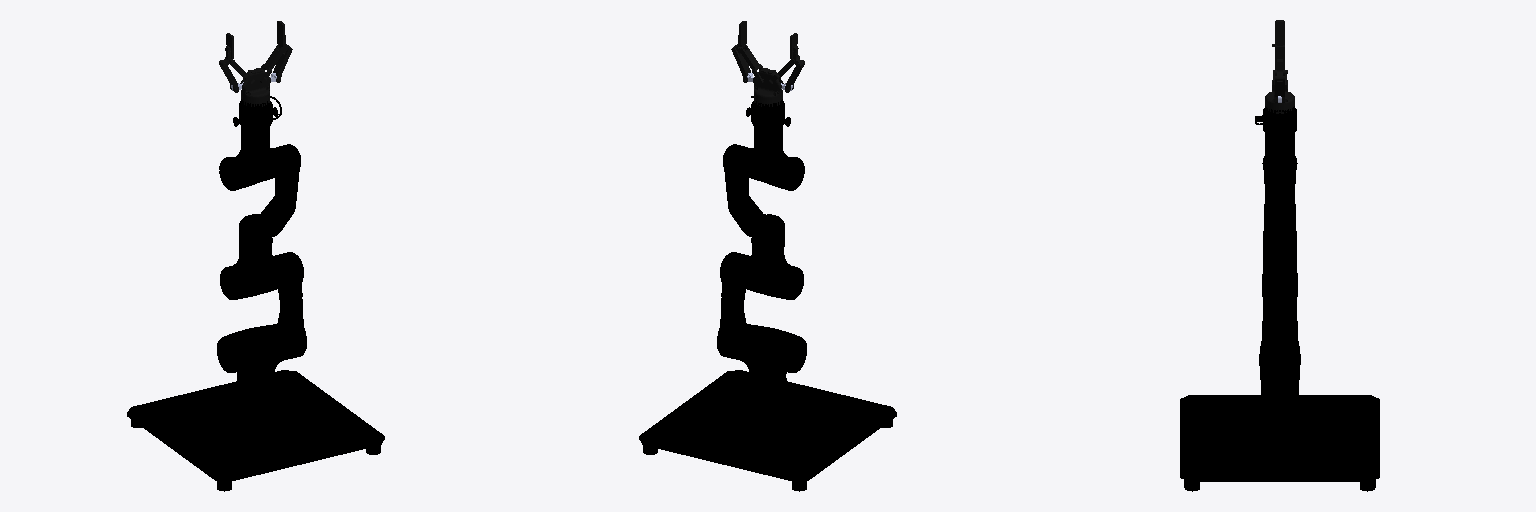
--- Facts derived from the render (not from the file) ---
Views: 3 orthographic renders of the robot side by side, from view 1: azimuth 30°, elevation 25°; view 2: azimuth 150°, elevation 25°; view 3: azimuth 270°, elevation 25°.
Model mara with 25 links and 24 joints (12 revolute, 12 fixed), rooted at world, posed all joints at 0.
Links seen in each view (by area): view 1: base_link, base_robot, motor1_link, motor4_link, motor3_link, motor2_link, motor1_cover, motor5_link, motor5_cover, motor3_cover, robotiq_arg2f_base_link, robotiq_adapter_link; view 2: base_link, base_robot, motor1_link, motor4_link, motor3_link, motor2_link, motor1_cover, motor5_link, motor5_cover, motor3_cover, robotiq_arg2f_base_link, robotiq_adapter_link; view 3: base_link, motor2_link, base_robot, motor4_link, motor3_link, motor5_link, motor1_link.
Boxes of the visible links, <box> form: base_link: <box>127,370,384,491</box>; base_robot: <box>209,390,302,443</box>; motor1_link: <box>237,323,291,399</box>; motor4_link: <box>239,144,300,240</box>; motor3_link: <box>233,237,287,294</box>; motor2_link: <box>277,252,306,358</box>; motor1_cover: <box>217,322,295,403</box>; motor5_link: <box>235,130,284,182</box>; motor5_cover: <box>219,127,288,190</box>; motor3_cover: <box>220,235,291,299</box>; robotiq_arg2f_base_link: <box>240,68,270,106</box>; robotiq_adapter_link: <box>233,101,278,130</box>; base_link: <box>639,370,896,491</box>; base_robot: <box>721,392,814,443</box>; motor1_link: <box>732,323,786,399</box>; motor4_link: <box>723,144,784,240</box>; motor3_link: <box>736,237,790,294</box>; motor2_link: <box>717,252,746,358</box>; motor1_cover: <box>728,322,806,403</box>; motor5_link: <box>739,130,788,182</box>; motor5_cover: <box>735,127,804,190</box>; motor3_cover: <box>732,235,803,299</box>; robotiq_arg2f_base_link: <box>753,68,783,106</box>; robotiq_adapter_link: <box>746,101,790,130</box>; base_link: <box>1180,395,1379,491</box>; motor2_link: <box>1261,285,1298,396</box>; base_robot: <box>1238,402,1327,456</box>; motor4_link: <box>1263,175,1296,248</box>; motor3_link: <box>1262,247,1297,296</box>; motor5_link: <box>1264,137,1295,184</box>; motor1_link: <box>1259,347,1300,411</box>.
Size in the robot's own frame: 0.5 by 0.5 by 1.16 metres.
21 mesh visuals loaded from 22 distinct referenced files (21 Collada DAE); not drawn: 5 (reference not matched to a file when rendering).

The robot description file, URDF, robot "mara":
<?xml version="1.0" ?>
<!-- =================================================================================== -->
<!-- |    This document was autogenerated by xacro from [local-path]/ros2_mara_ws/src/mara/mara_description/urdf/mara_robot_gripper_140.urdf.xacro | -->
<!-- |    EDITING THIS FILE BY HAND IS NOT RECOMMENDED                                 | -->
<!-- =================================================================================== -->
<robot name="mara" xmlns:xacro="http://ros.org/wiki/xacro">
  <!--
  Author: Alejandro  Hernandez
-->
  <!-- <xacro:include filename="$(find mara_description)/urdf/camera_top.urdf.xacro" /> -->
  <link name="base_link">
    <inertial>
      <origin rpy="0 0 0" xyz="8.625E-08 -4.6583E-06 0.03145"/>
      <mass value="7.033"/>
      <inertia ixx="0.1478344" ixy="-0.00001" ixz="0.0" iyy="0.14782335" iyz="0.0" izz="0.29471799"/>
    </inertial>
    <visual>
      <origin rpy="0 0 0" xyz="0 0 0"/>
      <geometry>
        <mesh filename="package://mara_description/meshes/Base_plancha.dae" scale="0.001 0.001 0.001"/>
      </geometry>
      <material name="Gazebo/Grey">
        <color rgba="0. 0. 0. 1"/>
      </material>
    </visual>
    <collision>
      <origin rpy="0 0 0" xyz="0 0 0"/>
      <geometry>
        <mesh filename="package://mara_description/meshes/Base_plancha.dae" scale="0.001 0.001 0.001"/>
      </geometry>
    </collision>
  </link>
  <gazebo reference="base_link">
    <material>Gazebo/Grey</material>
    <selfCollide>True</selfCollide>
  </gazebo>
  <link name="base_robot">
    <inertial>
      <origin rpy="0 0 0" xyz="8.625E-08 -4.6583E-06 0.03145"/>
      <mass value="7.033"/>
      <inertia ixx="0.1478344" ixy="-0.00001" ixz="0.0" iyy="0.14782335" iyz="0.0" izz="0.29471799"/>
    </inertial>
    <visual>
      <origin rpy="0 0 0" xyz="0 0 0"/>
      <geometry>
        <mesh filename="package://mara_description/meshes/Base.dae" scale="0.001 0.001 0.001"/>
      </geometry>
      <material name="Gazebo/Black">
        <color rgba="0. 0. 0. 1"/>
      </material>
    </visual>
    <collision>
      <origin rpy="0 0 0" xyz="0 0 0"/>
      <geometry>
        <mesh filename="package://mara_description/meshes/Base.dae" scale="0.001 0.001 0.001"/>
      </geometry>
    </collision>
  </link>
  <gazebo reference="base_robot">
    <material>Gazebo/Black</material>
    <selfCollide>True</selfCollide>
  </gazebo>
  <link name="motor1_link">
    <inertial>
      <origin rpy="0 0 0" xyz="8.625E-08 -4.6583E-06 0.03145"/>
      <mass value="5.8"/>
      <inertia ixx="0.10105893" ixy="0.000211" ixz="-0.004" iyy="0.09386624" iyz="-0.01698537" izz="0.01449937"/>
    </inertial>
    <visual>
      <origin rpy="0 0 0" xyz="0 0 0"/>
      <geometry>
        <mesh filename="package://mara_description/meshes/MARA_T49.dae" scale="0.001 0.001 0.001"/>
      </geometry>
      <material name="Gazebo/White">
        <color rgba="0. 0. 0. 1"/>
      </material>
    </visual>
    <collision>
      <origin rpy="0 0 0" xyz="0 0 0"/>
      <geometry>
        <mesh filename="package://mara_description/meshes/MARA_T49.dae" scale="0.001 0.001 0.001"/>
      </geometry>
    </collision>
  </link>
  <gazebo reference="motor1_link">
    <material>Gazebo/White</material>
    <selfCollide>True</selfCollide>
  </gazebo>
  <link name="motor1_cover">
    <inertial>
      <origin rpy="0 0 0" xyz="8.625E-08 -4.6583E-06 0.03145"/>
      <mass value="5.8"/>
      <inertia ixx="0.10105893" ixy="0.000211" ixz="-0.004" iyy="0.09386624" iyz="-0.01698537" izz="0.01449937"/>
    </inertial>
    <visual>
      <origin rpy="0 0 0" xyz="0 0 0"/>
      <geometry>
        <mesh filename="package://mara_description/meshes/MARA_T49_Black.dae" scale="0.001 0.001 0.001"/>
      </geometry>
      <material name="Gazebo/Black">
        <color rgba="0. 0. 0. 1"/>
      </material>
    </visual>
    <collision>
      <origin rpy="0 0 0" xyz="0 0 0"/>
      <geometry>
        <mesh filename="package://mara_description/meshes/MARA_T49_Black.dae" scale="0.001 0.001 0.001"/>
      </geometry>
    </collision>
  </link>
  <gazebo reference="motor1_cover">
    <material>Gazebo/Black</material>
    <selfCollide>True</selfCollide>
  </gazebo>
  <link name="motor2_link">
    <inertial>
      <origin rpy="0 0 0" xyz="8.625E-08 -4.6583E-06 0.03145"/>
      <mass value="1.03237"/>
      <inertia ixx="0.014865226" ixy="0.0" ixz="0.0" iyy="0.01557" iyz="0.00071" izz="0.00092"/>
    </inertial>
    <visual>
      <origin rpy="0 0 0" xyz="0 0 0"/>
      <geometry>
        <mesh filename="package://mara_description/meshes/MARA_Link1.dae" scale="0.001 0.001 0.001"/>
      </geometry>
      <material name="Gazebo/Black">
        <color rgba="0. 0. 0. 1"/>
      </material>
    </visual>
    <collision>
      <origin rpy="0 0 0" xyz="0 0 0"/>
      <geometry>
        <mesh filename="package://mara_description/meshes/MARA_Link1.dae" scale="0.001 0.001 0.001"/>
      </geometry>
    </collision>
  </link>
  <gazebo reference="motor2_link">
    <material>Gazebo/Black</material>
    <selfCollide>True</selfCollide>
  </gazebo>
  <link name="motor3_link">
    <inertial>
      <origin rpy="0 0 0" xyz="8.625E-08 -4.6583E-06 0.03145"/>
      <mass value="3.8"/>
      <inertia ixx="0.04517" ixy="0.00002" ixz="0.0" iyy="0.01587" iyz="0.01444" izz="0.03303"/>
    </inertial>
    <visual>
      <origin rpy="0 0 0" xyz="0 0 0"/>
      <geometry>
        <mesh filename="package://mara_description/meshes/MARA_T30.dae" scale="0.001 0.001 0.001"/>
      </geometry>
      <material name="Gazebo/White">
        <color rgba="0. 0. 0. 1"/>
      </material>
    </visual>
    <collision>
      <origin rpy="0 0 0" xyz="0 0 0"/>
      <geometry>
        <mesh filename="package://mara_description/meshes/MARA_T30.dae" scale="0.001 0.001 0.001"/>
      </geometry>
    </collision>
  </link>
  <gazebo reference="motor3_link">
    <material>Gazebo/White</material>
    <selfCollide>True</selfCollide>
  </gazebo>
  <link name="motor3_cover">
    <inertial>
      <origin rpy="0 0 0" xyz="8.625E-08 -4.6583E-06 0.03145"/>
      <mass value="3.8"/>
      <inertia ixx="0.04517" ixy="0.00002" ixz="0.0" iyy="0.01587" iyz="0.01444" izz="0.03303"/>
    </inertial>
    <visual>
      <origin rpy="0 0 0" xyz="0 0 0"/>
      <geometry>
        <mesh filename="package://mara_description/meshes/MARA_T30_Black.dae" scale="0.001 0.001 0.001"/>
      </geometry>
      <material name="Gazebo/Black">
        <color rgba="0. 0. 0. 1"/>
      </material>
    </visual>
    <collision>
      <origin rpy="0 0 0" xyz="0 0 0"/>
      <geometry>
        <mesh filename="package://mara_description/meshes/MARA_T30_Black.dae" scale="0.001 0.001 0.001"/>
      </geometry>
    </collision>
  </link>
  <gazebo reference="motor3_cover">
    <material>Gazebo/Black</material>
    <selfCollide>True</selfCollide>
  </gazebo>
  <link name="motor4_link">
    <inertial>
      <origin rpy="0 0 0" xyz="8.625E-08 -4.6583E-06 0.03145"/>
      <mass value="1.1"/>
      <inertia ixx="0.01464" ixy="0.0" ixz="0.0" iyy="0.00895" iyz="-0.00631" izz="0.00725"/>
    </inertial>
    <visual>
      <origin rpy="0 0 0" xyz="0 0 0"/>
      <geometry>
        <mesh filename="package://mara_description/meshes/MARA_Link2.dae" scale="0.001 0.001 0.001"/>
      </geometry>
      <material name="Gazebo/Black">
        <color rgba="0. 0. 0. 1"/>
      </material>
    </visual>
    <collision>
      <origin rpy="0 0 0" xyz="0 0 0"/>
      <geometry>
        <mesh filename="package://mara_description/meshes/MARA_Link2.dae" scale="0.001 0.001 0.001"/>
      </geometry>
    </collision>
  </link>
  <gazebo reference="motor4_link">
    <material>Gazebo/Black</material>
    <selfCollide>True</selfCollide>
  </gazebo>
  <link name="motor5_link">
    <inertial>
      <origin rpy="0 0 0" xyz="8.625E-08 -4.6583E-06 0.03145"/>
      <mass value="2.9"/>
      <inertia ixx="0.03406" ixy="0.0" ixz="0.0" iyy="0.01066" iyz="0.00989" izz="0.02563"/>
    </inertial>
    <visual>
      <origin rpy="0 0 0" xyz="0 0 0"/>
      <geometry>
        <mesh filename="package://mara_description/meshes/MARA_T5.4.dae" scale="0.001 0.001 0.001"/>
      </geometry>
      <material name="Gazebo/White">
        <color rgba="0. 0. 0. 1"/>
      </material>
    </visual>
    <collision>
      <origin rpy="0 0 0" xyz="0 0 0"/>
      <geometry>
        <mesh filename="package://mara_description/meshes/MARA_T5.4.dae" scale="0.001 0.001 0.001"/>
      </geometry>
    </collision>
  </link>
  <gazebo reference="motor5_link">
    <material>Gazebo/White</material>
    <selfCollide>True</selfCollide>
  </gazebo>
  <link name="motor5_cover">
    <inertial>
      <origin rpy="0 0 0" xyz="8.625E-08 -4.6583E-06 0.03145"/>
      <mass value="2.9"/>
      <inertia ixx="0.03406" ixy="0.0" ixz="0.0" iyy="0.01066" iyz="0.00989" izz="0.02563"/>
    </inertial>
    <visual>
      <origin rpy="0 0 0" xyz="0 0 0"/>
      <geometry>
        <mesh filename="package://mara_description/meshes/MARA_T5.4_black.dae" scale="0.001 0.001 0.001"/>
      </geometry>
      <material name="Gazebo/Black">
        <color rgba="0. 0. 0. 1"/>
      </material>
    </visual>
    <collision>
      <origin rpy="0 0 0" xyz="0 0 0"/>
      <geometry>
        <mesh filename="package://mara_description/meshes/MARA_T5.4_black.dae" scale="0.001 0.001 0.001"/>
      </geometry>
    </collision>
  </link>
  <gazebo reference="motor5_cover">
    <material>Gazebo/Black</material>
    <selfCollide>True</selfCollide>
  </gazebo>
  <link name="motor6_link">
    <inertial>
      <origin rpy="0 0 0" xyz="8.625E-08 -4.6583E-06 0.03145"/>
      <mass value="2.9"/>
      <inertia ixx="0.0005" ixy="0.0" ixz="0.0" iyy="0.0005" iyz="0.0000" izz="0.0003"/>
    </inertial>
    <visual>
      <origin rpy="0 0 0" xyz="0 0 0"/>
      <geometry>
        <mesh filename="package://mara_description/meshes/MARA_GripperAdapter.dae" scale="0.001 0.001 0.001"/>
      </geometry>
      <material name="Gazebo/Black">
        <color rgba="0. 0. 0. 1"/>
      </material>
    </visual>
    <collision>
      <origin rpy="0 0 0" xyz="0 0 0"/>
      <geometry>
        <mesh filename="package://mara_description/meshes/MARA_GripperAdapter.dae" scale="0.001 0.001 0.001"/>
      </geometry>
    </collision>
  </link>
  <gazebo reference="motor6_link">
    <material>Gazebo/Black</material>
    <selfCollide>True</selfCollide>
  </gazebo>
  <link name="ee_link">
    </link>
  <gazebo reference="ee_link">
    <material>Gazebo/Blue</material>
    <selfCollide>False</selfCollide>
  </gazebo>
  <joint name="joint_bases" type="fixed">
    <origin rpy="0 0 0" xyz="0 0 0.04"/>
    <parent link="base_link"/>
    <child link="base_robot"/>
  </joint>
  <joint name="motor1" type="revolute">
    <origin rpy="0 0 0" xyz="0 0 0.05122"/>
    <parent link="base_robot"/>
    <child link="motor1_link"/>
    <axis xyz="0 0 -1"/>
    <limit effort="330.0" lower="-3.1416" upper="3.1416" velocity="3.1416"/>
    <dynamics damping="0" friction="0"/>
  </joint>
  <joint name="motor1_cover_joint" type="fixed">
    <origin rpy="0 0 0" xyz="0 0 0.0"/>
    <parent link="motor1_link"/>
    <child link="motor1_cover"/>
  </joint>
  <joint name="motor2" type="revolute">
    <origin rpy="0 0 0" xyz="0.118 0 0.1637"/>
    <parent link="motor1_link"/>
    <child link="motor2_link"/>
    <axis xyz="-1 0 0"/>
    <limit effort="330.0" lower="-3.1416" upper="3.1416" velocity="3.1416"/>
    <dynamics damping="0" friction="0"/>
  </joint>
  <joint name="motor3" type="revolute">
    <origin rpy="0 0 0" xyz="-0.009 0 0.2"/>
    <parent link="motor2_link"/>
    <child link="motor3_link"/>
    <axis xyz="1 0 0"/>
    <limit effort="330.0" lower="-3.1416" upper="3.1416" velocity="3.1416"/>
    <dynamics damping="0" friction="0"/>
  </joint>
  <joint name="motor3_cover_joint" type="fixed">
    <origin rpy="0 0 0" xyz="0 0 0.0"/>
    <parent link="motor3_link"/>
    <child link="motor3_cover"/>
  </joint>
  <joint name="motor4" type="revolute">
    <origin rpy="0 0 0" xyz="-0.109255 0 0.149255"/>
    <parent link="motor3_link"/>
    <child link="motor4_link"/>
    <axis xyz="0 0 -1"/>
    <limit effort="330.0" lower="-3.1416" upper="3.1416" velocity="3.1416"/>
    <dynamics damping="0" friction="0"/>
  </joint>
  <joint name="motor5" type="revolute">
    <origin rpy="0 0 0" xyz="0.1054570 0 0.16074"/>
    <parent link="motor4_link"/>
    <child link="motor5_link"/>
    <axis xyz="1 0 0"/>
    <limit effort="330.0" lower="-3.1416" upper="3.1416" velocity="3.1416"/>
    <dynamics damping="0" friction="0"/>
  </joint>
  <joint name="motor5_cover_joint" type="fixed">
    <origin rpy="0 0 0" xyz="0 0 0.0"/>
    <parent link="motor5_link"/>
    <child link="motor5_cover"/>
  </joint>
  <joint name="motor6" type="revolute">
    <origin rpy="0 0 0" xyz="-0.10625569 0 0.14675569"/>
    <parent link="motor5_link"/>
    <child link="motor6_link"/>
    <axis xyz="0 0 -1"/>
    <limit effort="330.0" lower="-3.1416" upper="3.1416" velocity="3.1416"/>
    <dynamics damping="0" friction="0"/>
  </joint>
  <joint name="ee_link" type="fixed">
    <origin rpy="0 -1.57 0" xyz="0 0.0 0.24"/>
    <!-- 0.24 -->
    <parent link="motor6_link"/>
    <child link="ee_link"/>
  </joint>
  <link name="tool0"/>
  <joint name="motor6_link-tool0_fixed_joint" type="fixed">
    <origin rpy="0 -1.57 0" xyz="0 0.0 0.24"/>
    <parent link="motor6_link"/>
    <child link="tool0"/>
  </joint>
  <transmission name="shoulder_pan_trans">
    <type>transmission_interface/SimpleTransmission</type>
    <joint name="motor1">
      <hardwareInterface>hardware_interface/PositionJointInterface</hardwareInterface>
    </joint>
    <actuator name="shoulder_pan_motor">
      <mechanicalReduction>1</mechanicalReduction>
    </actuator>
  </transmission>
  <transmission name="shoulder_lift_trans">
    <type>transmission_interface/SimpleTransmission</type>
    <joint name="motor2">
      <hardwareInterface>hardware_interface/PositionJointInterface</hardwareInterface>
    </joint>
    <actuator name="shoulder_lift_motor">
      <mechanicalReduction>1</mechanicalReduction>
    </actuator>
  </transmission>
  <transmission name="elbow_trans">
    <type>transmission_interface/SimpleTransmission</type>
    <joint name="motor3">
      <hardwareInterface>hardware_interface/PositionJointInterface</hardwareInterface>
    </joint>
    <actuator name="elbow_motor">
      <mechanicalReduction>1</mechanicalReduction>
    </actuator>
  </transmission>
  <transmission name="wrist_1_trans">
    <type>transmission_interface/SimpleTransmission</type>
    <joint name="motor4">
      <hardwareInterface>hardware_interface/PositionJointInterface</hardwareInterface>
    </joint>
    <actuator name="wrist_1_motor">
      <mechanicalReduction>1</mechanicalReduction>
    </actuator>
  </transmission>
  <transmission name="wrist_2_trans">
    <type>transmission_interface/SimpleTransmission</type>
    <joint name="motor5">
      <hardwareInterface>hardware_interface/PositionJointInterface</hardwareInterface>
    </joint>
    <actuator name="wrist_2_motor">
      <mechanicalReduction>1</mechanicalReduction>
    </actuator>
  </transmission>
  <transmission name="wrist_3_trans">
    <type>transmission_interface/SimpleTransmission</type>
    <joint name="motor6">
      <hardwareInterface>hardware_interface/PositionJointInterface</hardwareInterface>
    </joint>
    <actuator name="wrist_3_motor">
      <mechanicalReduction>1</mechanicalReduction>
    </actuator>
  </transmission>
  <gazebo>
    <plugin filename="libgazebo_ros_joint_state_publisher.so" name="mara_joint_state">
      <ros>
        <argument>~/out:=joint_states</argument>
      </ros>
      <update_rate>25</update_rate>
      <joint_name>motor1</joint_name>
      <joint_name>motor2</joint_name>
      <joint_name>motor3</joint_name>
      <joint_name>motor4</joint_name>
      <joint_name>motor5</joint_name>
      <joint_name>motor6</joint_name>
      <joint_name>joint_finger</joint_name>
    </plugin>
    <plugin filename="libmara_gazebo_joint_plugin.so" name="hrim_actuation_servomotor_000000000001">
      <ros/>
      <axis1>motor2</axis1>
      <axis2>motor1</axis2>
      <type>series14</type>
    </plugin>
    <plugin filename="libmara_gazebo_joint_plugin.so" name="hrim_actuation_servomotor_000000000002">
      <ros/>
      <axis1>motor3</axis1>
      <axis2>motor4</axis2>
      <type>series17</type>
    </plugin>
    <plugin filename="libmara_gazebo_joint_plugin.so" name="hrim_actuation_servomotor_000000000003">
      <ros/>
      <axis1>motor5</axis1>
      <axis2>motor6</axis2>
      <type>series20</type>
    </plugin>
  </gazebo>
  <link name="robotiq_adapter_link">
    <inertial>
      <origin rpy="0 0 0" xyz="8.625E-08 -4.6583E-06 0.03145"/>
      <mass value="0.22652"/>
      <inertia ixx="0.00020005" ixy="0" ixz="0" iyy="0.00017832" iyz="0" izz="0.00013478"/>
    </inertial>
    <visual>
      <origin rpy="0 0 1.57" xyz="0 0 0"/>
      <geometry>
        <mesh filename="package://robotiq_140_gripper_description/meshes/hros_robotiq_adapter.dae" scale="0.001 0.001 0.001"/>
      </geometry>
      <material name="Gazebo/Black">
        <color rgba="0.0 0.0 0.0 1"/>
      </material>
    </visual>
    <collision>
      <origin rpy="0 0 1.57" xyz="0 0 0"/>
      <geometry>
        <mesh filename="package://robotiq_140_gripper_description/meshes/hros_robotiq_adapter.dae" scale="0.001 0.001 0.001"/>
      </geometry>
    </collision>
  </link>
  <gazebo reference="robotiq_adapter_link">
    <material>Gazebo/Black</material>
    <selfCollide>False</selfCollide>
  </gazebo>
  <joint name="base_adapter_to_base_robotiq_joint" type="fixed">
    <origin rpy="0 0 0" xyz=" 0 0 0.03653"/>
    <parent link="robotiq_adapter_link"/>
    <child link="robotiq_arg2f_base_link"/>
  </joint>
  <link name="robotiq_arg2f_base_link">
    <inertial>
      <origin rpy="0 0 0" xyz="8.625E-08 -4.6583E-06 0.03145"/>
      <mass value="0.22652"/>
      <inertia ixx="0.00020005" ixy="0" ixz="0" iyy="0.00017832" iyz="0" izz="0.00013478"/>
    </inertial>
    <visual>
      <origin rpy="0 0 1.57" xyz="0 0 0"/>
      <geometry>
        <mesh filename="package://robotiq_140_gripper_description/meshes/GRIPPER_base_axis.dae" scale="0.001 0.001 0.001"/>
      </geometry>
      <material name="Gazebo/Black">
        <color rgba="0.1 0.1 0.1 1"/>
      </material>
    </visual>
    <collision>
      <origin rpy="0 0 1.57" xyz="0 0 0"/>
      <geometry>
        <mesh filename="package://robotiq_140_gripper_description/meshes/GRIPPER_base_axis.dae" scale="0.001 0.001 0.001"/>
      </geometry>
    </collision>
  </link>
  <gazebo reference="robotiq_arg2f_base_link">
    <material>Gazebo/Black</material>
    <selfCollide>False</selfCollide>
  </gazebo>
  <link name="left_outer_knuckle">
    <inertial>
      <origin rpy="0 0 0" xyz="0 0 0"/>
      <mass value="0.00853198276973456"/>
      <inertia ixx="2.89328108496468E-06" ixy="-1.57935047237397E-19" ixz="-1.93980378593255E-19" iyy="1.86719750325683E-06" iyz="-1.21858577871576E-06" izz="1.21905238907251E-06"/>
    </inertial>
    <visual>
      <origin rpy="0 0 0" xyz="0 0 0"/>
      <geometry>
        <mesh filename="package://robotiq_140_gripper_description/meshes/robotiq_140_left_outer_knuckle.dae"/>
      </geometry>
      <material name="">
        <color rgba="0.792156862745098 0.819607843137255 0.933333333333333 1"/>
      </material>
    </visual>
    <collision>
      <origin rpy="0 0 0" xyz="0 0 0"/>
      <geometry>
        <mesh filename="package://robotiq_140_gripper_description/meshes/robotiq_140_left_outer_knuckle.dae"/>
      </geometry>
    </collision>
  </link>
  <gazebo reference="left_outer_knuckle">
    <material>Gazebo/Grey</material>
    <selfCollide>False</selfCollide>
  </gazebo>
  <link name="right_outer_knuckle">
    <inertial>
      <origin rpy="0 0 0" xyz="0 0 0"/>
      <mass value="0.00853198276973456"/>
      <inertia ixx="2.89328108496468E-06" ixy="-1.57935047237397E-19" ixz="-1.93980378593255E-19" iyy="1.86719750325683E-06" iyz="-1.21858577871576E-06" izz="1.21905238907251E-06"/>
    </inertial>
    <visual>
      <origin rpy="0 0 0" xyz="0 0 0"/>
      <geometry>
        <mesh filename="package://robotiq_140_gripper_description/meshes/robotiq_140_right_outer_knuckle.dae"/>
      </geometry>
      <material name="">
        <color rgba="0.792156862745098 0.819607843137255 0.933333333333333 1"/>
      </material>
    </visual>
    <collision>
      <origin rpy="0 0 0" xyz="0 0 0"/>
      <geometry>
        <mesh filename="package://robotiq_140_gripper_description/meshes/robotiq_140_right_outer_knuckle.dae"/>
      </geometry>
    </collision>
  </link>
  <gazebo reference="right_outer_knuckle">
    <material>Gazebo/Grey</material>
    <selfCollide>False</selfCollide>
  </gazebo>
  <link name="left_inner_knuckle">
    <inertial>
      <origin rpy="0 0 0" xyz="0.000123011831763771 0.0507850843201817 0.00103968640075166"/>
      <mass value="0.0271177346495152"/>
      <inertia ixx="2.61910379223783E-05" ixy="-2.43616858946494E-07" ixz="-6.37789906117123E-09" iyy="2.8270243746167E-06" iyz="-5.37200748039765E-07" izz="2.83695868220296E-05"/>
    </inertial>
    <visual>
      <origin rpy="0 0 0" xyz="0 0 0"/>
      <geometry>
        <mesh filename="package://robotiq_140_gripper_description/meshes/robotiq_140_left_inner_knuckle.dae"/>
      </geometry>
      <material name="Gazebo/Black">
        <color rgba="0.1 0.1 0.1 1"/>
      </material>
    </visual>
  </link>
  <gazebo reference="left_inner_knuckle">
    <material>Gazebo/Black</material>
    <selfCollide>False</selfCollide>
  </gazebo>
  <link name="right_inner_knuckle">
    <inertial>
      <origin rpy="0 0 0" xyz="0.000123011831763771 0.0507850843201817 0.00103968640075166"/>
      <mass value="0.0271177346495152"/>
      <inertia ixx="2.61910379223783E-05" ixy="-2.43616858946494E-07" ixz="-6.37789906117123E-09" iyy="2.8270243746167E-06" iyz="-5.37200748039765E-07" izz="2.83695868220296E-05"/>
    </inertial>
    <visual>
      <origin rpy="0 0 0" xyz="0 0 0"/>
      <geometry>
        <mesh filename="package://robotiq_140_gripper_description/meshes/robotiq_140_right_inner_knuckle.dae"/>
      </geometry>
      <material name="Gazebo/Black">
        <color rgba="0.1 0.1 0.1 1"/>
      </material>
    </visual>
  </link>
  <gazebo reference="right_inner_knuckle">
    <material>Gazebo/Black</material>
    <selfCollide>False</selfCollide>
  </gazebo>
  <link name="left_inner_finger">
    <inertial>
      <origin rpy="0 0 0" xyz="0.0 0.031506174 -0.017648840"/>
      <mass value="0.0104003125914103"/>
      <inertia ixx="2.71909453810972E-06" ixy="1.35402465472579E-21" ixz="-7.1817349065269E-22" iyy="7.69100314106116E-07" iyz="6.74715432769696E-07" izz="2.30315190420171E-06"/>
    </inertial>
    <visual>
      <origin rpy="0 0 0" xyz="0 0 0"/>
      <geometry>
        <mesh filename="package://robotiq_140_gripper_description/meshes/robotiq_140_left_inner_finger.dae" scale="0.001 0.001 0.001"/>
      </geometry>
      <material name="Gazebo/Black">
        <color rgba="0.1 0.1 0.1 1"/>
      </material>
    </visual>
    <collision>
      <origin rpy="0 0 0" xyz="0 0 0"/>
      <geometry>
        <mesh filename="package://robotiq_140_gripper_description/meshes/robotiq_140_left_inner_finger.dae" scale="0.001 0.001 0.001"/>
      </geometry>
    </collision>
  </link>
  <gazebo reference="left_inner_finger">
    <material>Gazebo/Black</material>
    <selfCollide>False</selfCollide>
  </gazebo>
  <link name="right_inner_finger">
    <inertial>
      <origin rpy="0 0 0" xyz="0.0 0.031506174 -0.017648840"/>
      <mass value="0.0104003125914103"/>
      <inertia ixx="2.71909453810972E-06" ixy="1.35402465472579E-21" ixz="-7.1817349065269E-22" iyy="7.69100314106116E-07" iyz="6.74715432769696E-07" izz="2.30315190420171E-06"/>
    </inertial>
    <visual>
      <origin rpy="0 0 0" xyz="0 0 0"/>
      <geometry>
        <mesh filename="package://robotiq_140_gripper_description/meshes/robotiq_140_right_inner_finger.dae" scale="0.001 0.001 0.001"/>
      </geometry>
      <material name="Gazebo/Black">
        <color rgba="0.1 0.1 0.1 1"/>
      </material>
    </visual>
    <collision>
      <origin rpy="0 0 0" xyz="0 0 0"/>
      <geometry>
        <mesh filename="package://robotiq_140_gripper_description/meshes/robotiq_140_right_inner_finger.dae" scale="0.001 0.001 0.001"/>
      </geometry>
    </collision>
  </link>
  <gazebo reference="right_inner_finger">
    <material>Gazebo/Black</material>
    <selfCollide>False</selfCollide>
  </gazebo>
  <link name="left_outer_finger">
    <inertial>
      <origin rpy="0 0 0" xyz="0.00030115855001899 0.0373907951953854 -0.0208027427000385"/>
      <mass value="0.022614240507152"/>
      <inertia ixx="1.52518312458174E-05" ixy="9.76583423954399E-10" ixz="-5.43838577022588E-10" iyy="6.17694243867776E-06" iyz="6.78636130740228E-06" izz="1.16494917907219E-05"/>
    </inertial>
    <visual>
      <origin rpy="0 0 0" xyz="0 0 0"/>
      <geometry>
        <mesh filename="package://robotiq_140_gripper_description/meshes/robotiq_140_left_outer_finger.dae"/>
      </geometry>
      <material name="Gazebo/Black">
        <color rgba="0.1 0.1 0.1 1"/>
      </material>
    </visual>
    <collision>
      <origin rpy="0 0 0" xyz="0 0 0"/>
      <geometry>
        <mesh filename="package://robotiq_140_gripper_description/meshes/robotiq_140_left_outer_finger.dae"/>
      </geometry>
    </collision>
  </link>
  <gazebo reference="left_outer_finger">
    <material>Gazebo/Black</material>
    <selfCollide>False</selfCollide>
  </gazebo>
  <link name="right_outer_finger">
    <inertial>
      <origin rpy="0 0 0" xyz="0.00030115855001899 0.0373907951953854 -0.0208027427000385"/>
      <mass value="0.022614240507152"/>
      <inertia ixx="1.52518312458174E-05" ixy="9.76583423954399E-10" ixz="-5.43838577022588E-10" iyy="6.17694243867776E-06" iyz="6.78636130740228E-06" izz="1.16494917907219E-05"/>
    </inertial>
    <visual>
      <origin rpy="0 0 0" xyz="0 0 0"/>
      <geometry>
        <mesh filename="package://robotiq_140_gripper_description/meshes/robotiq_140_right_outer_finger.dae"/>
      </geometry>
      <material name="Gazebo/Black">
        <color rgba="0.1 0.1 0.1 1"/>
      </material>
    </visual>
    <collision>
      <origin rpy="0 0 0" xyz="0 0 0"/>
      <geometry>
        <mesh filename="package://robotiq_140_gripper_description/meshes/robotiq_140_right_outer_finger.dae"/>
      </geometry>
    </collision>
  </link>
  <gazebo reference="right_outer_finger">
    <material>Gazebo/Black</material>
    <selfCollide>False</selfCollide>
  </gazebo>
  <joint name="left_outer_knuckle_joint" type="revolute">
    <origin rpy="2.31 0 0" xyz="0 -0.030601 0.054905"/>
    <parent link="robotiq_arg2f_base_link"/>
    <child link="left_outer_knuckle"/>
    <axis xyz="-1 0 0"/>
    <limit effort="1000" lower="0" upper="0.775" velocity="2.0"/>
    <mimic joint="joint_finger" multiplier="1" offset="0"/>
  </joint>
  <joint name="joint_finger" type="revolute">
    <origin rpy="2.31 0 3.14159265359" xyz="0 0.030601 0.054905"/>
    <parent link="robotiq_arg2f_base_link"/>
    <child link="right_outer_knuckle"/>
    <axis xyz="-1 0 0"/>
    <limit effort="1000" lower="0" upper="0.775" velocity="2.0"/>
  </joint>
  <joint name="left_inner_knuckle_joint" type="revolute">
    <origin rpy="2.29 0 0" xyz="0 -0.0127 0.06142"/>
    <parent link="robotiq_arg2f_base_link"/>
    <child link="left_inner_knuckle"/>
    <axis xyz="-1 0 0"/>
    <limit effort="1000" lower="0" upper="0.78" velocity="2.0"/>
    <mimic joint="joint_finger" multiplier="1" offset="0"/>
  </joint>
  <joint name="right_inner_knuckle_joint" type="revolute">
    <origin rpy="2.29 0 -3.14159265359" xyz="0 0.0127 0.06142"/>
    <parent link="robotiq_arg2f_base_link"/>
    <child link="right_inner_knuckle"/>
    <axis xyz="-1 0 0"/>
    <limit effort="1000" lower="0" upper="0.78" velocity="2.0"/>
    <mimic joint="joint_finger" multiplier="1" offset="0"/>
  </joint>
  <joint name="left_outer_finger_joint" type="fixed">
    <origin rpy="0 0 0" xyz="0 0.01821998610742 0.0260018192872234"/>
    <parent link="left_outer_knuckle"/>
    <child link="left_outer_finger"/>
  </joint>
  <joint name="right_outer_finger_joint" type="fixed">
    <origin rpy="0 0 0" xyz="0 0.01821998610742 0.0260018192872234"/>
    <parent link="right_outer_knuckle"/>
    <child link="right_outer_finger"/>
  </joint>
  <joint name="left_inner_finger_joint" type="revolute">
    <origin rpy="-.725 0 0" xyz="0 0.0817554015893473 -0.0282203446692936"/>
    <parent link="left_outer_finger"/>
    <child link="left_inner_finger"/>
    <axis xyz="1 0 0"/>
    <limit effort="1000" lower="0" upper="0.8757" velocity="2.0"/>
    <mimic joint="joint_finger" multiplier="1" offset="0"/>
  </joint>
  <joint name="right_inner_finger_joint" type="revolute">
    <origin rpy="-.725 0 0" xyz="0 0.0817554015893473 -0.0282203446692936"/>
    <parent link="right_outer_finger"/>
    <child link="right_inner_finger"/>
    <axis xyz="1 0 0"/>
    <limit effort="1000" lower="0" upper="0.8757" velocity="2.0"/>
    <mimic joint="joint_finger" multiplier="1" offset="0"/>
  </joint>
  <gazebo>
    <joint name="left_inner_finger_knuckle_joint" type="revolute">
      <pose frame="">0 0.006 -0.018 0 0 0</pose>
      <parent>mara::left_inner_knuckle</parent>
      <child>mara::left_inner_finger</child>
      <axis>
        <xyz>1 0 0</xyz>
        <limit>
          <lower>-0.8</lower>
          <upper>0.8</upper>
          <velocity>2.0</velocity>
          <effort>1000</effort>
        </limit>
      </axis>
    </joint>
    <joint name="right_inner_finger_knuckle_joint" type="revolute">
      <pose frame="">0 0.006 -0.018 0 0 0</pose>
      <parent>mara::right_inner_knuckle</parent>
      <child>mara::right_inner_finger</child>
      <axis>
        <xyz>-1 0 0</xyz>
        <limit>
          <lower>-0.8</lower>
          <upper>0.8</upper>
          <velocity>2.0</velocity>
          <effort>1000</effort>
        </limit>
      </axis>
    </joint>
    <plugin filename="librobotiq_gripper_gazebo_plugin.so" name="robotiq_140_gripper">
      <joint>left_inner_knuckle_joint</joint>
      <joint>left_outer_knuckle_joint</joint>
      <joint>right_inner_knuckle_joint</joint>
      <joint>joint_finger</joint>
    </plugin>
  </gazebo>
  <link name="table">
    <contact>
      <lateral_friction value="1.0"/>
    </contact>
    <inertial>
      <origin rpy="0 0 0" xyz="0 0 0"/>
      <mass value="0.00001"/>
      <inertia ixx="0.001" ixy="0" ixz="0" iyy="0.001" iyz="0" izz="0.001"/>
    </inertial>
    <visual>
      <origin rpy="0 0 0" xyz="0 0 0.6"/>
      <geometry>
        <mesh filename="package://mara_description/urdf/table.obj" scale="1.5 1 0.05"/>
      </geometry>
      <material name="brown">
        <color rgba="0.63 0.16 0.16 1"/>
      </material>
    </visual>
    <collision>
      <origin rpy="0 0 0" xyz="0 0 0.6"/>
      <geometry>
        <box size="1.5 1 0.05"/>
      </geometry>
    </collision>
    <visual>
      <origin rpy="0 0 0" xyz="-0.65 -0.4 0.29"/>
      <geometry>
        <mesh filename="package://mara_description/urdf/table.obj" scale="0.1 0.1 0.58"/>
      </geometry>
      <material name="framemat0"/>
    </visual>
    <visual>
      <origin rpy="0 0 0" xyz="-0.65 0.4 0.29"/>
      <geometry>
        <mesh filename="package://mara_description/urdf/table.obj" scale="0.1 0.1 0.58"/>
      </geometry>
      <material name="framemat0"/>
    </visual>
    <visual>
      <origin rpy="0 0 0" xyz="0.65 -0.4 0.29"/>
      <geometry>
        <mesh filename="package://mara_description/urdf/table.obj" scale="0.1 0.1 0.58"/>
      </geometry>
      <material name="framemat0"/>
    </visual>
    <visual>
      <origin rpy="0 0 0" xyz="0.65 0.4 0.29"/>
      <geometry>
        <mesh filename="package://mara_description/urdf/table.obj" scale="0.1 0.1 0.58"/>
      </geometry>
    </visual>
  </link>
  <gazebo reference="table">
    <material>Gazebo/Brown</material>
    <selfCollide>True</selfCollide>
  </gazebo>
  <link name="world"/>
  <joint name="end_effector_adapter_to_robotiq" type="fixed">
    <origin rpy="0 0 1.57" xyz=" 0 0 0.0"/>
    <parent link="motor6_link"/>
    <child link="robotiq_adapter_link"/>
  </joint>
  <joint name="world_to_table_joint" type="fixed">
    <origin rpy="0 0 0" xyz="0 0 0.02"/>
    <parent link="world"/>
    <child link="table"/>
  </joint>
  <joint name="table_to_base_joint" type="fixed">
    <origin rpy="0 0 0" xyz="0 0 0.62"/>
    <parent link="table"/>
    <child link="base_link"/>
  </joint>
</robot>
